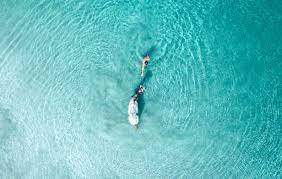Animal: (128, 83, 147, 133)
Person: (142, 54, 150, 77)
